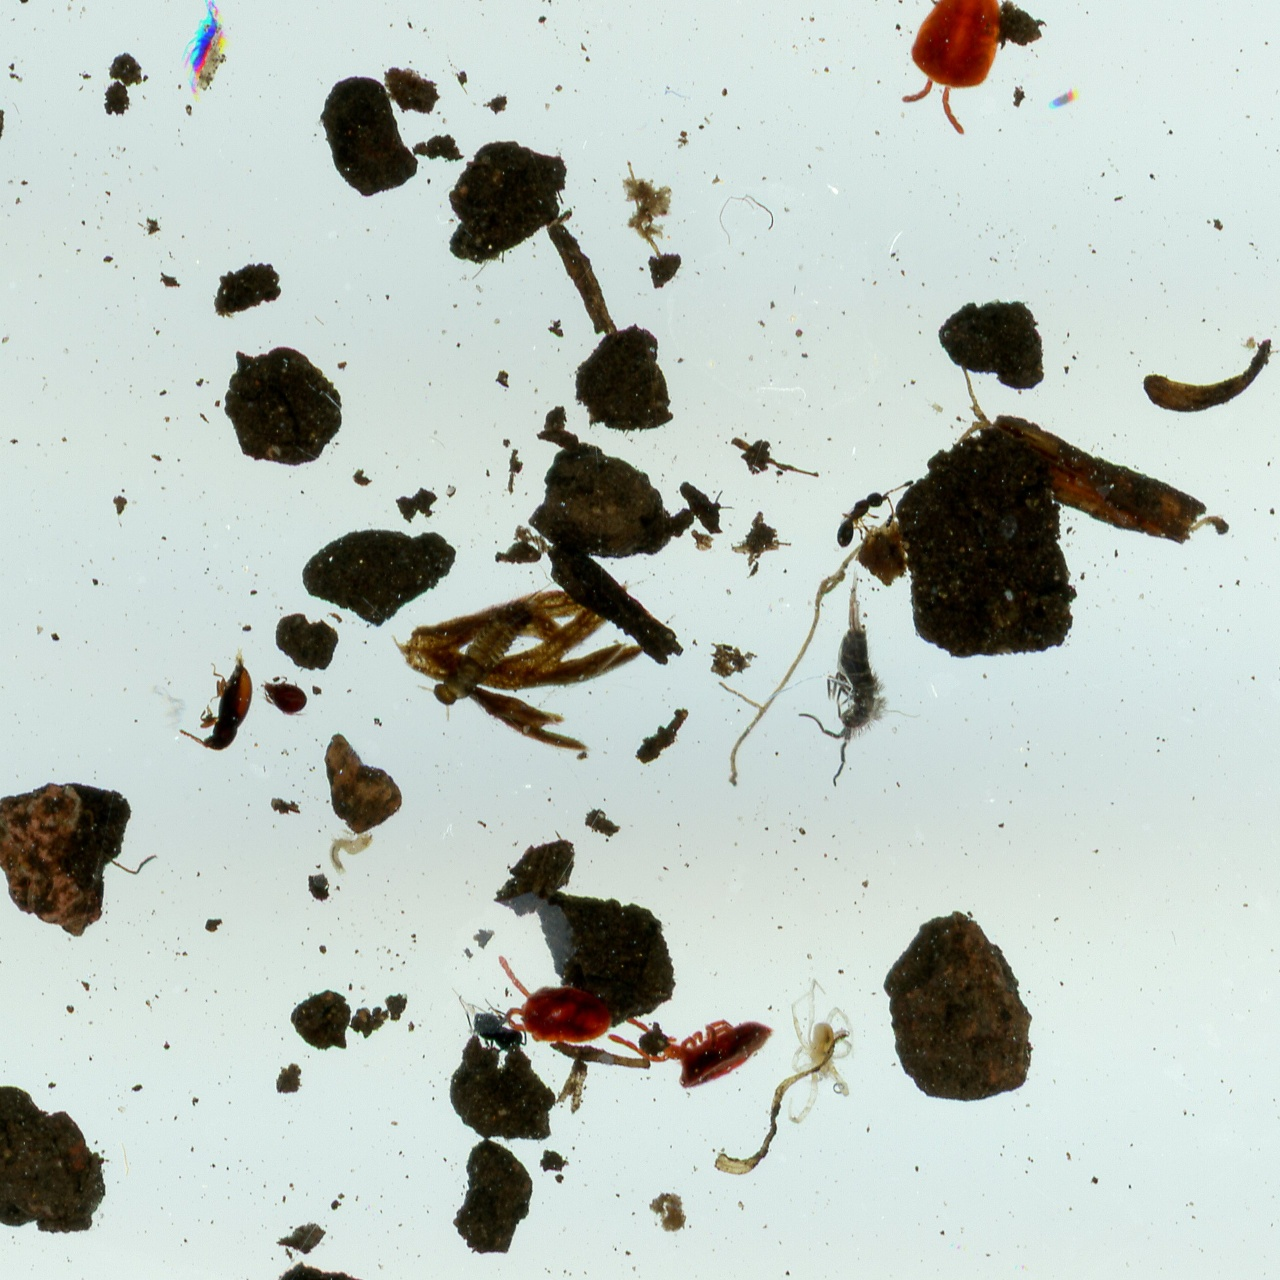arthropod: (411, 561, 577, 728), (796, 563, 892, 790), (598, 990, 783, 1106), (892, 0, 1010, 140), (491, 941, 611, 1048), (783, 972, 857, 1128), (438, 966, 536, 1068), (176, 649, 256, 752), (831, 475, 920, 551), (260, 674, 312, 719)
